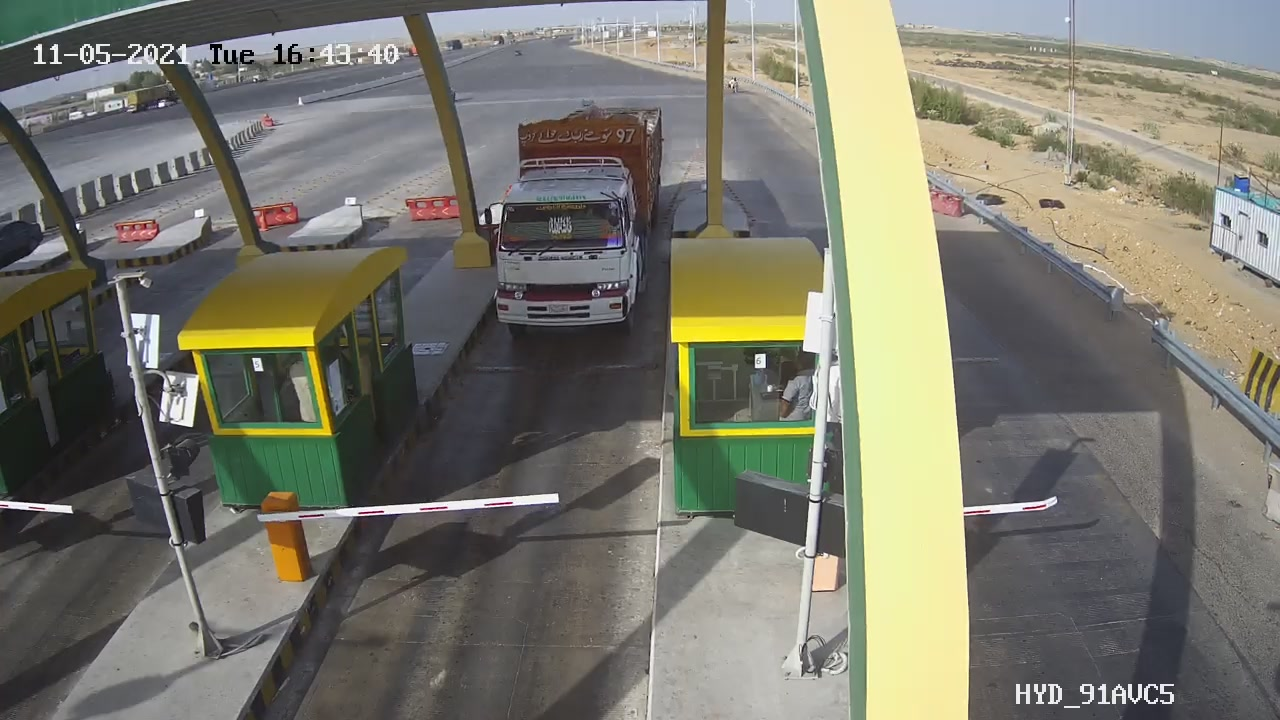F6: (462, 90, 683, 360)
